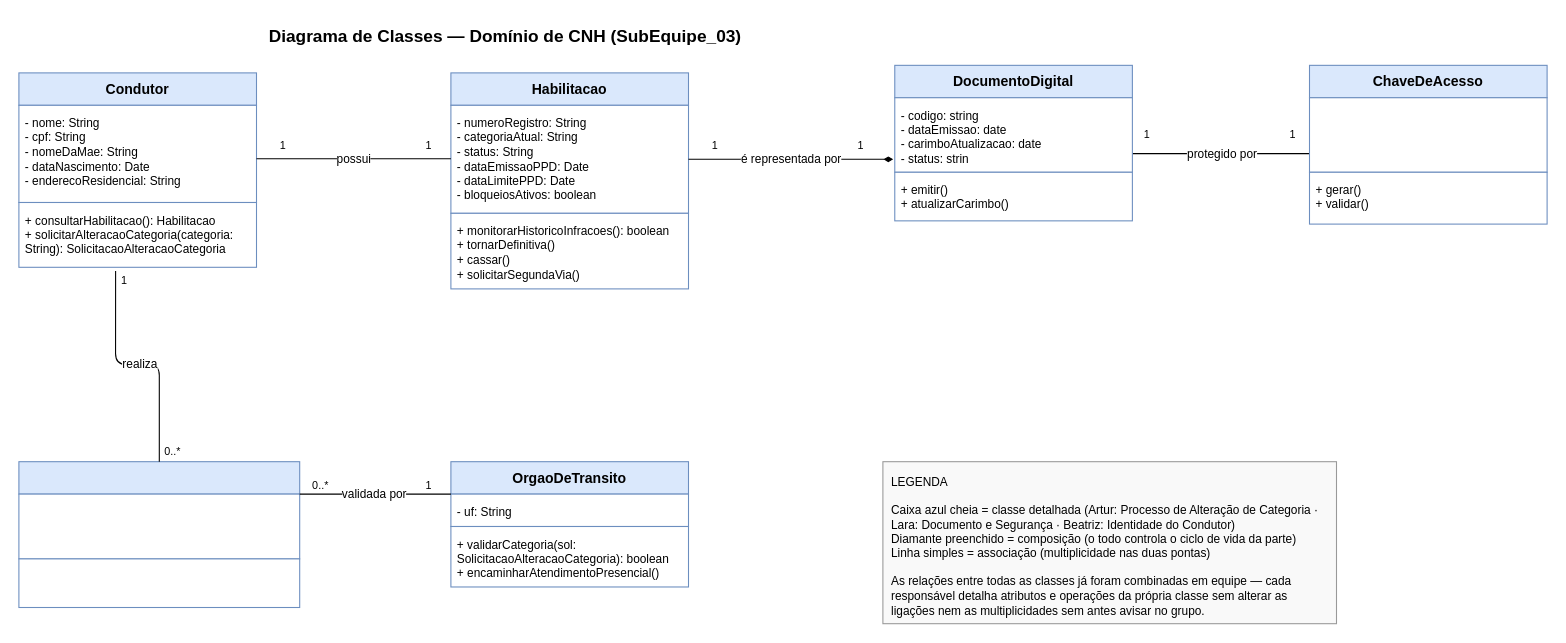
Image size: 1566x643. Some labels were removed from this diagram. The shapes that lost their labels are listed below. From the top down, each one's box as (x1, y1, x2, y2) in pixels, then its label:
(1308, 97, 1547, 172): - codigo: string - dataGeracao: date - validade: date
(18, 461, 300, 494): SolicitacaoAlteracaoCategoria
(18, 493, 300, 559): - categoriaDesejada: String - status: String - dataSolicitacao: Date
(18, 558, 300, 608): + validarElegibilidade(): boolean + confirmar()
